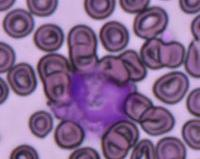E: (55, 62, 136, 142)
